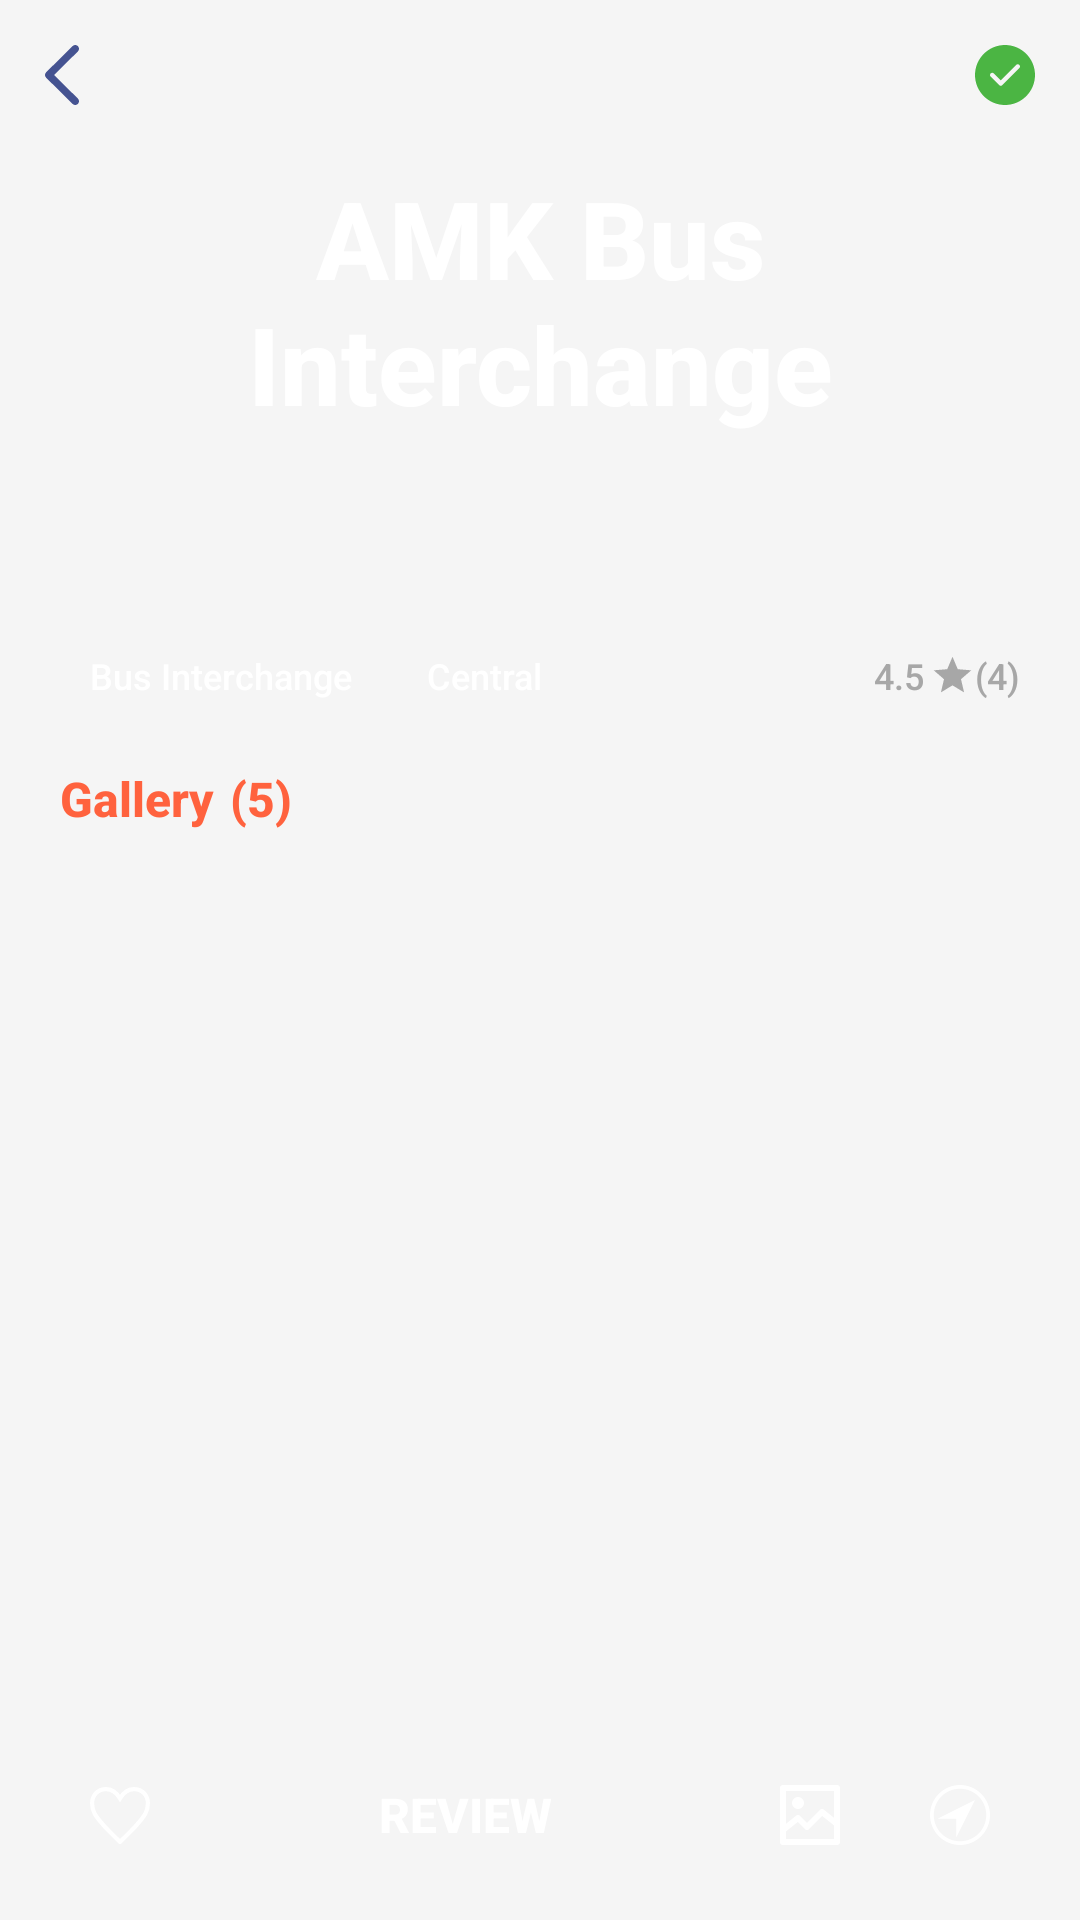

Icon click points for this 1080×1920 phone screenshot, format point (x, y):
Back: point (62, 75)
Toilet Rating: point (952, 674)
Verified: point (1005, 75)
